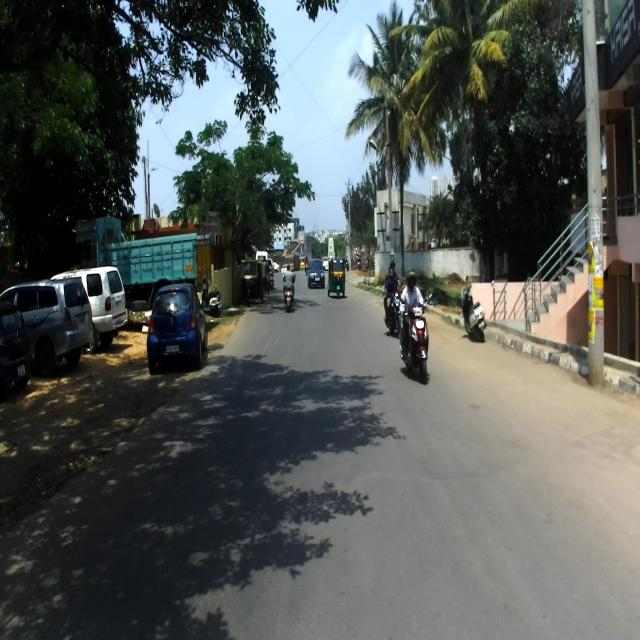autorickshaw: (327, 256, 346, 298)
car: (0, 272, 93, 378), (146, 282, 208, 377), (0, 297, 35, 385), (306, 257, 325, 289)
scooter: (397, 294, 432, 384), (458, 273, 486, 343), (282, 272, 296, 312)
truck: (73, 215, 212, 318)
